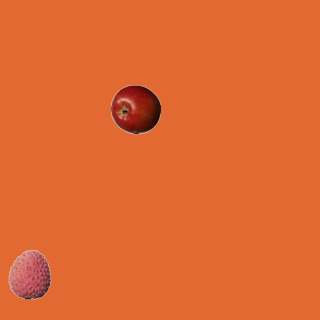Apple Braeburn: (110, 84, 160, 134)
Lychee: (4, 249, 54, 299)
